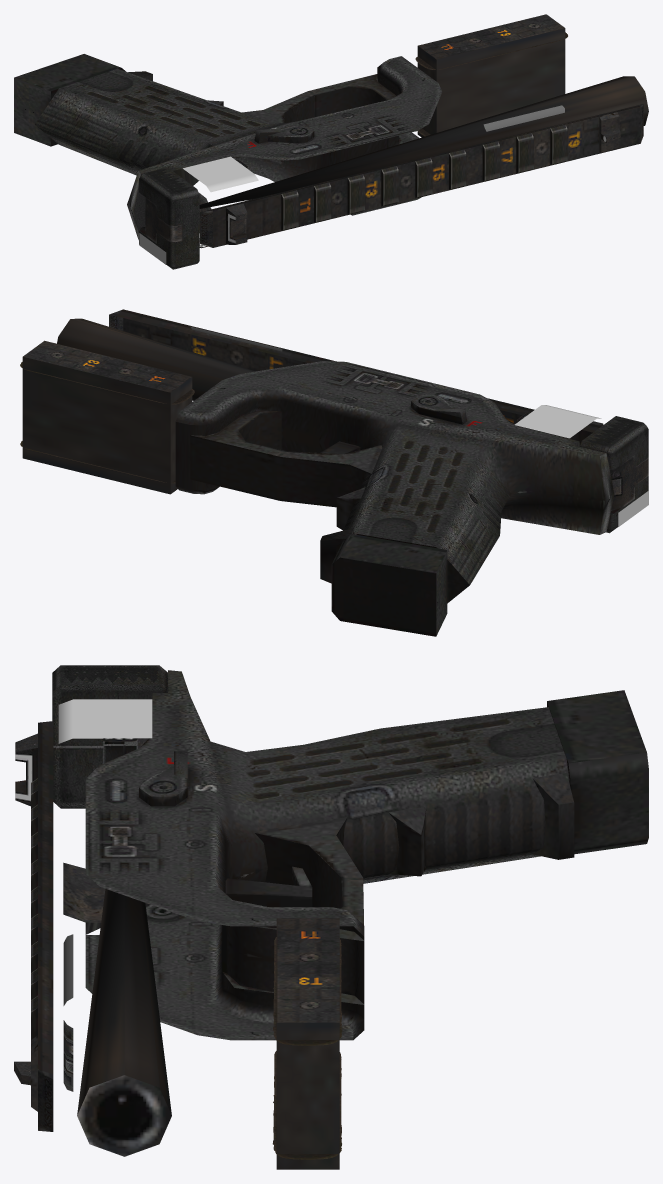
The model's file is t6_wpn_pistol_kard_world_LOD0.obj.
The picture shows the model from 3 angles, top to bottom: view 1: azimuth 30°, elevation 25°; view 2: azimuth 150°, elevation 25°; view 3: azimuth 270°, elevation 25°; orthographic projection. The views are drawn at different scales.
Parts seen in each view (by area): view 1: mtl_t6_wpn_pistol_kard, mtl_t6_wpn_pistol_kard_camo3, mtl_t6_wpn_pistol_kard_camo1, mtl_player_icon_world, mtl_t6_wpn_pistol_kard_camo2; view 2: mtl_t6_wpn_pistol_kard, mtl_t6_wpn_pistol_kard_camo3, mtl_t6_wpn_pistol_kard_camo1, mtl_t6_wpn_pistol_kard_camo2, mtl_player_icon_world; view 3: mtl_t6_wpn_pistol_kard, mtl_t6_wpn_pistol_kard_camo3, mtl_t6_wpn_pistol_kard_camo1, mtl_player_icon_world, mtl_t6_wpn_pistol_kard_camo2.
Boxes of the visible parts, box(x1,y1,x2,y2) form: mtl_t6_wpn_pistol_kard: box(35, 14, 643, 269); mtl_t6_wpn_pistol_kard_camo3: box(14, 54, 567, 239); mtl_t6_wpn_pistol_kard_camo1: box(199, 76, 648, 208); mtl_player_icon_world: box(183, 156, 258, 192); mtl_t6_wpn_pistol_kard_camo2: box(145, 32, 567, 248); mtl_t6_wpn_pistol_kard: box(22, 309, 648, 636); mtl_t6_wpn_pistol_kard_camo3: box(332, 408, 642, 635); mtl_t6_wpn_pistol_kard_camo1: box(57, 318, 282, 400); mtl_t6_wpn_pistol_kard_camo2: box(20, 362, 648, 509); mtl_player_icon_world: box(514, 405, 601, 438); mtl_t6_wpn_pistol_kard: box(14, 665, 574, 1169); mtl_t6_wpn_pistol_kard_camo3: box(31, 665, 648, 1012); mtl_t6_wpn_pistol_kard_camo1: box(63, 745, 171, 1156); mtl_player_icon_world: box(58, 699, 152, 743); mtl_t6_wpn_pistol_kard_camo2: box(100, 738, 342, 1159).
Size of the model in its own units: 30.42 by 5.34 by 20.7.
